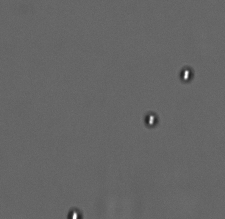Living Cell: (179, 65, 193, 85), (143, 110, 158, 128)
